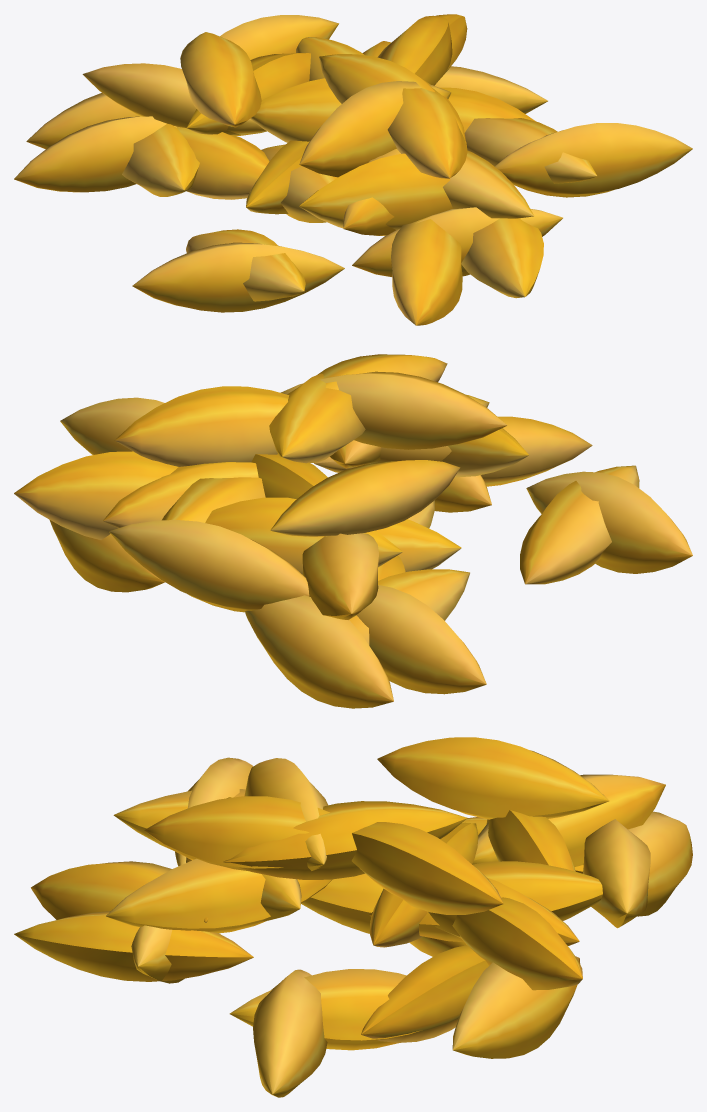
The model's file is NP_Rice_HuskPile.fbx.
3 views of the same model, one above another, from view 1: azimuth 30°, elevation 25°; view 2: azimuth 150°, elevation 25°; view 3: azimuth 270°, elevation 25° (orthographic). The views are drawn at different scales.
Parts seen in each view (by area): view 1: NP_Rice_HuskPile.001; view 2: NP_Rice_HuskPile.001; view 3: NP_Rice_HuskPile.001.
Boxes of the visible parts, x1,y1,x2,y2 form: NP_Rice_HuskPile.001: [14, 14, 692, 325]; NP_Rice_HuskPile.001: [14, 354, 692, 708]; NP_Rice_HuskPile.001: [14, 737, 692, 1097].
Size of the model in its own units: 24.03 by 6.48 by 21.63.
